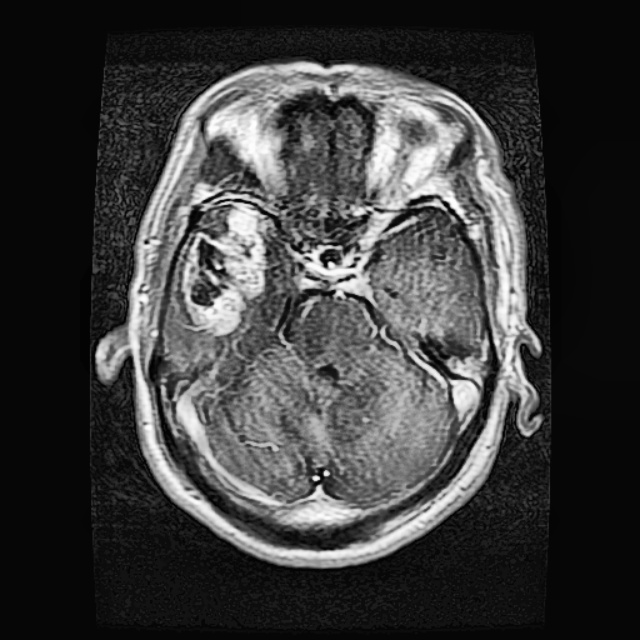Pituitary: (180, 204, 268, 337)
